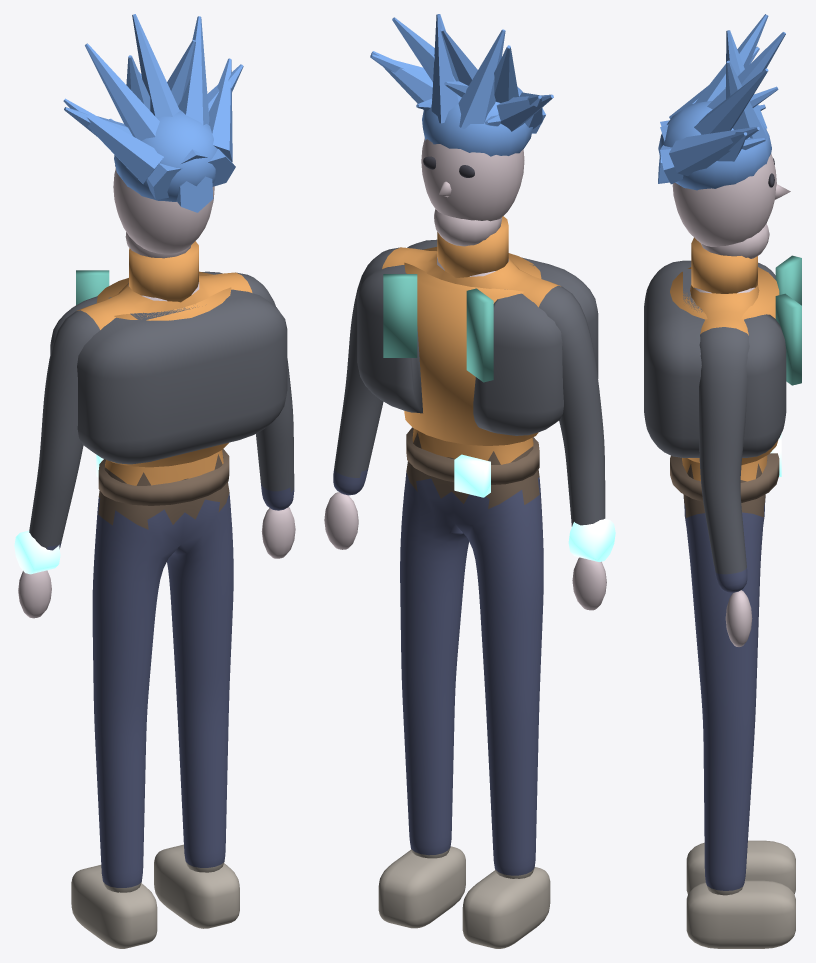
Rendered from human.glb.
The picture shows the model from 3 angles, left to right: view 1: azimuth 30°, elevation 25°; view 2: azimuth 150°, elevation 25°; view 3: azimuth 270°, elevation 25°; orthographic projection. The views are drawn at different scales.
Parts seen in each view (by area): view 1: human; view 2: human; view 3: human.
Boxes of the visible parts, bbox=[...] form: human: bbox=[14, 14, 295, 948]; human: bbox=[324, 14, 615, 948]; human: bbox=[644, 14, 801, 948].
Size of the model in its own units: 0.666 by 2.07 by 0.3329.
